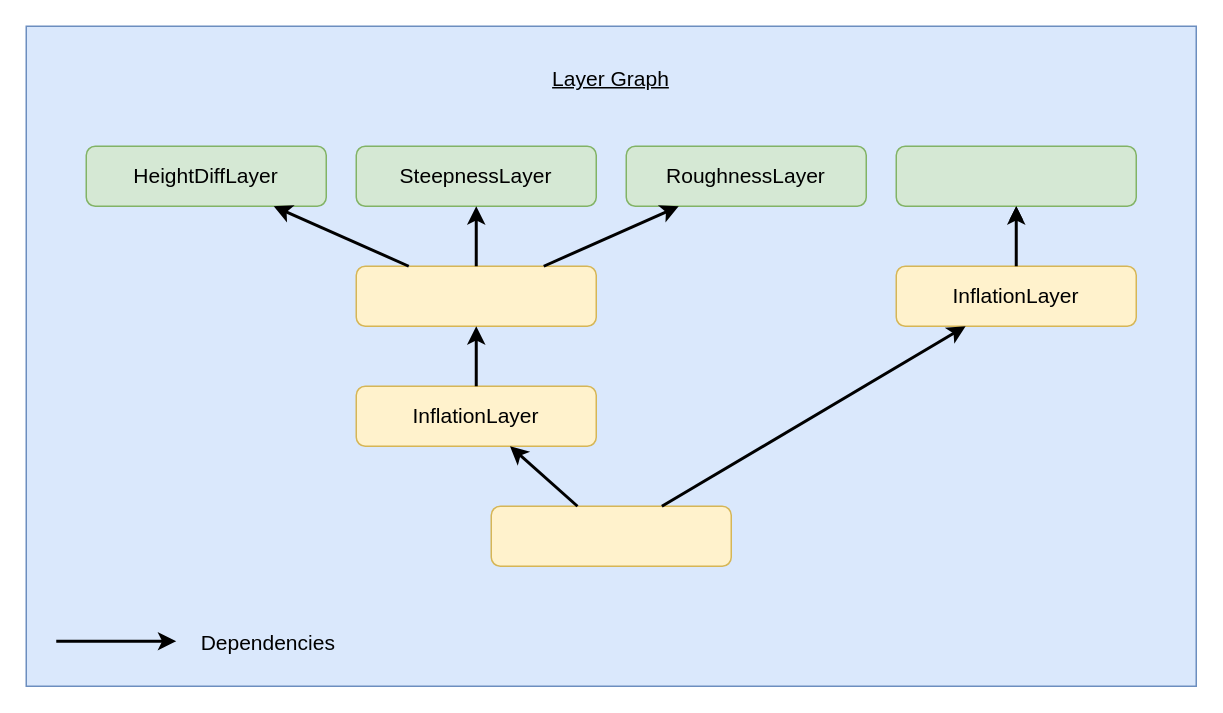
The diagram is 1223 pixels wide and 713 high, and some of its shapes have lost their labels. The centre of each missing label's shape, as x and y in pixels:
AvgCombinationLayer: point 475,295
MaxCombinationLayer: point 610,535
ObstacleLayer: point 1015,175
